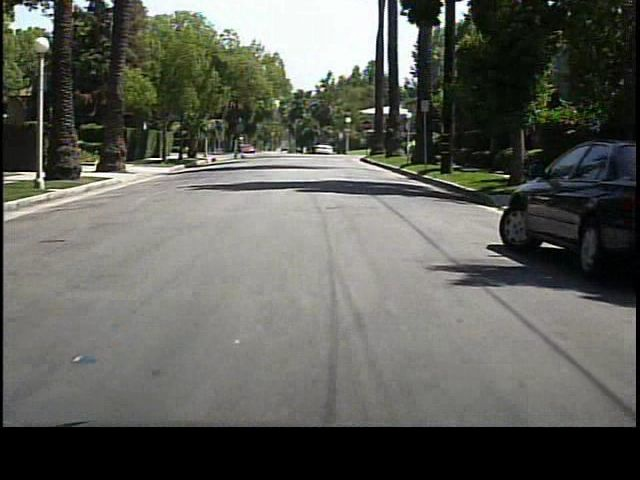person: (233, 131, 248, 163)
